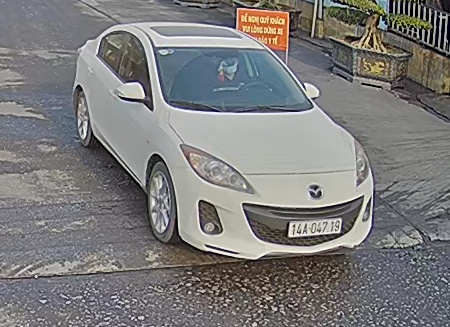vehicle plate: (283, 213, 345, 237)
